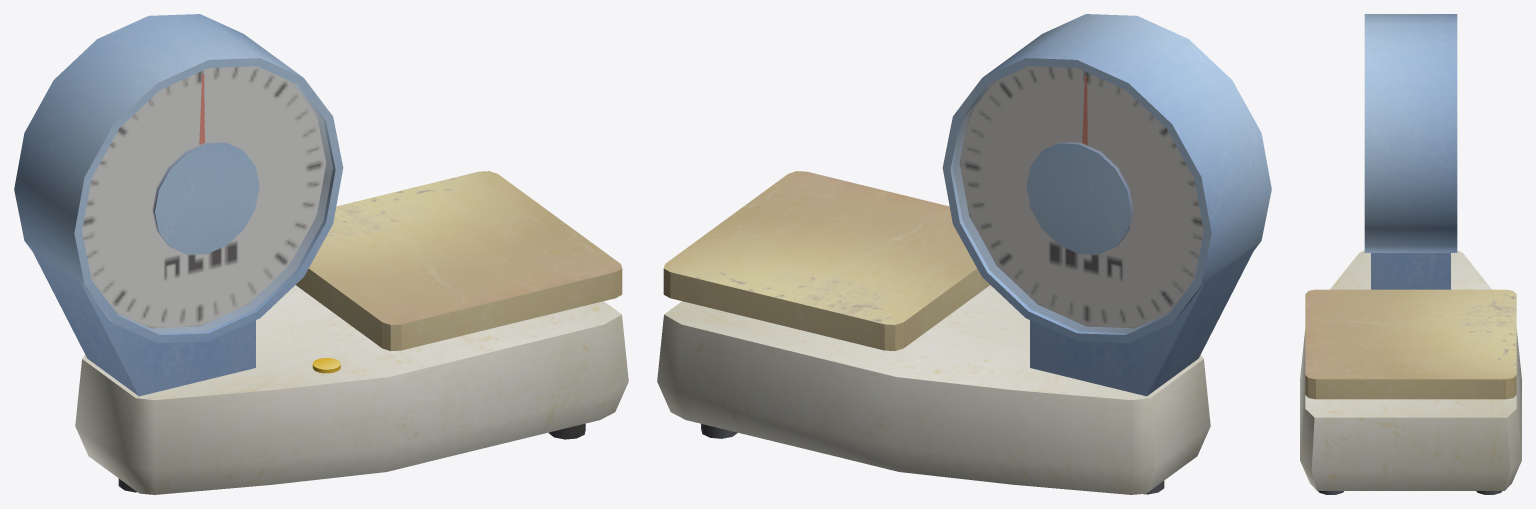
Rendered from prop_Wgtscaler01.fbx.
3 renders of one model, left to right at view 1: azimuth 30°, elevation 25°; view 2: azimuth 150°, elevation 25°; view 3: azimuth 270°, elevation 25°, orthographic. The views are drawn at different scales.
Parts seen in each view (by area): view 1: prop_Wgtscaler01; view 2: prop_Wgtscaler01; view 3: prop_Wgtscaler01.
Part boxes in pixels (left/top/right/bottom): prop_Wgtscaler01: left=14, top=14, right=628, bottom=494; prop_Wgtscaler01: left=657, top=14, right=1271, bottom=494; prop_Wgtscaler01: left=1300, top=14, right=1521, bottom=494.
Bounding box in the file's own units: 0.6342 × 0.5102 × 0.3042.
